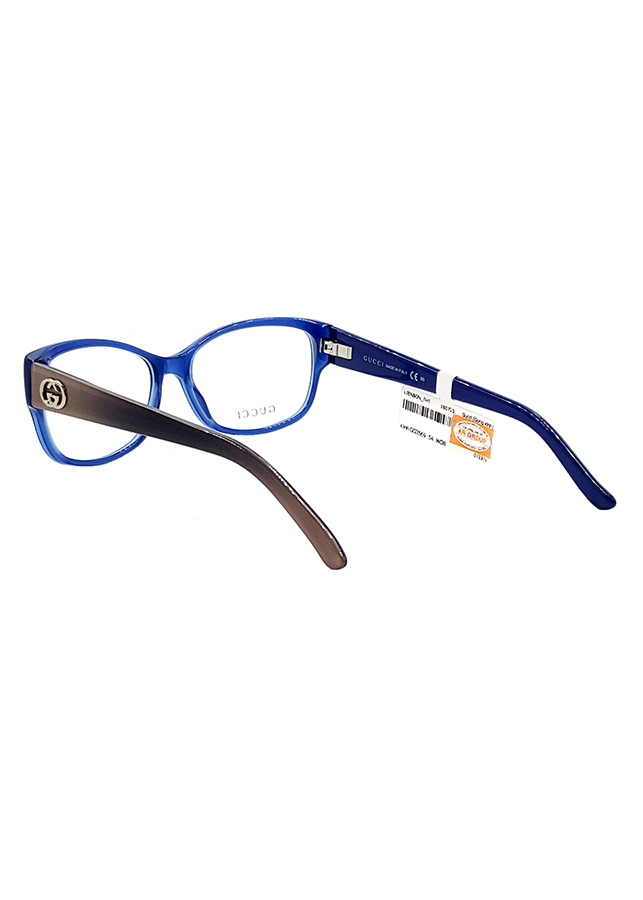Gucci: (33, 367, 71, 417), (231, 403, 278, 423), (357, 347, 386, 374)
